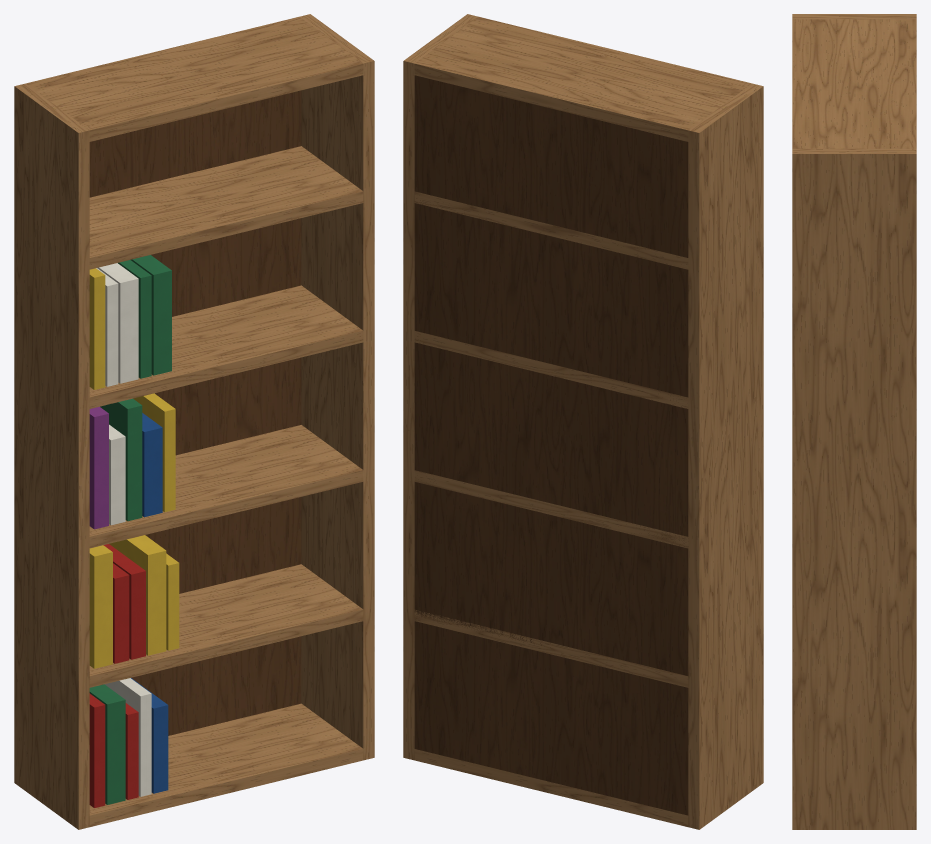
3 renders of one model, left to right at view 1: azimuth 30°, elevation 25°; view 2: azimuth 150°, elevation 25°; view 3: azimuth 270°, elevation 25°, orthographic. The views are drawn at different scales.
Parts seen in each view (by area): view 1: Bookshelf_Game; view 2: Bookshelf_Game; view 3: Bookshelf_Game.
Part boxes in pixels (x1,y1,x2,y2): Bookshelf_Game: (14,14,374,829); Bookshelf_Game: (403,14,763,829); Bookshelf_Game: (792,14,916,829).
Bounding box in the file's own units: 0.8 × 1.8 × 0.3.
Materials: 8 (8 with a texture image).
